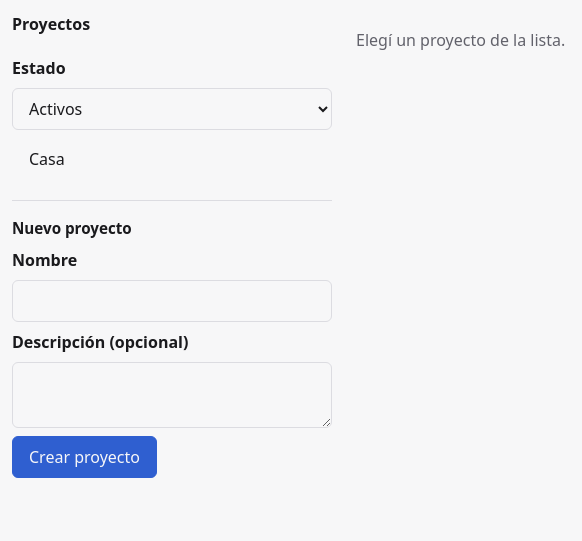
Test: ProjectsPage list › "Todos" requests the three statuses explicitly
Expected: the button "Casa" is shown, [12,138,332,180]
Select "Todos" in the dropdown labelled "Estado" at {"x": 172, "y": 109}, box [12,88,332,130]
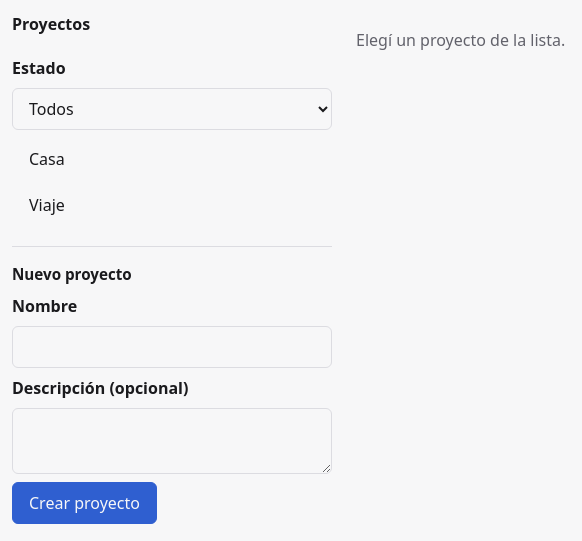
Now the button "Viaje" is shown, box [12,184,332,226]
